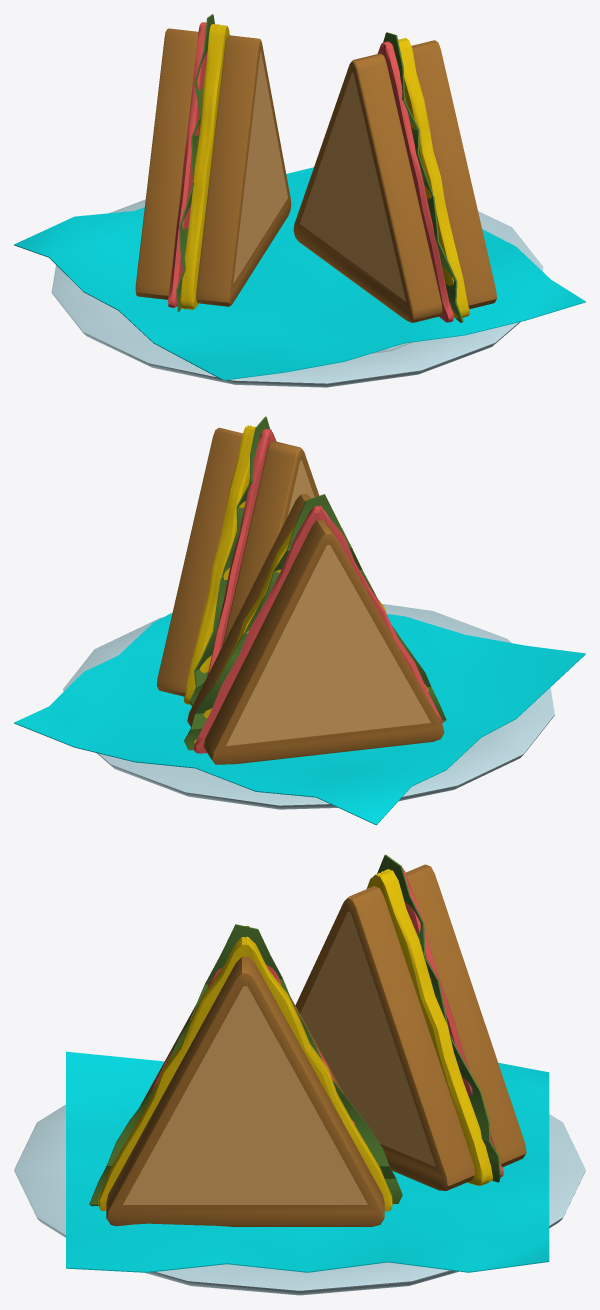
Rendered from Fries.fbx.
3 renders of one model, top to bottom at view 1: azimuth 30°, elevation 25°; view 2: azimuth 150°, elevation 25°; view 3: azimuth 270°, elevation 25°, orthographic. The views are drawn at different scales.
Parts seen in each view (by area): view 1: bake_paper.003, Cube.022, Cube.026, Cube.031, Cube.027, Cube.021, Cube.030, Cube.025, Cube.024, Cube.029, Cube.023, Cube.028; view 2: bake_paper.003, Cube.027, Cube.031, Cube.021, Cube.022, Cube.029, Cube.025, Cube.028, Cube.024, Cube.026, Cube.023, Cube.030; view 3: Cube.021, bake_paper.003, Cube.026, Cube.031, Cube.027, Cube.025, Cube.030, Cube.023, Cube.028, Cube.029.
Part boxes in pixels (x1,y1,x2,y2): bake_paper.003: (14, 167, 585, 380); Cube.022: (293, 53, 442, 322); Cube.026: (196, 35, 291, 306); Cube.031: (51, 199, 543, 387); Cube.027: (135, 28, 198, 299); Cube.021: (411, 40, 496, 308); Cube.030: (180, 24, 229, 309); Cube.025: (398, 38, 469, 318); Cube.024: (377, 41, 453, 322); Cube.029: (168, 22, 207, 307); Cube.023: (383, 32, 463, 322); Cube.028: (176, 14, 214, 311); bake_paper.003: (14, 612, 585, 825); Cube.027: (203, 519, 444, 764); Cube.031: (63, 604, 554, 809); Cube.021: (156, 427, 242, 696); Cube.022: (222, 441, 319, 646); Cube.029: (193, 505, 442, 753); Cube.025: (184, 425, 255, 704); Cube.028: (184, 494, 446, 750); Cube.024: (207, 428, 276, 675); Cube.026: (187, 494, 310, 726); Cube.023: (189, 416, 269, 706); Cube.030: (194, 498, 428, 743); Cube.021: (106, 956, 384, 1226); bake_paper.003: (66, 1051, 549, 1272); Cube.026: (295, 886, 475, 1190); Cube.031: (14, 1104, 585, 1295); Cube.027: (406, 864, 526, 1167); Cube.025: (98, 936, 392, 1211); Cube.030: (366, 869, 492, 1185); Cube.023: (89, 924, 402, 1206); Cube.028: (377, 854, 500, 1182); Cube.029: (402, 867, 503, 1177).
Bounding box in the file's own units: 108 × 61.19 × 108.
